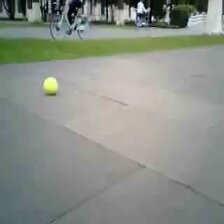tennis: (43, 76, 58, 96)
